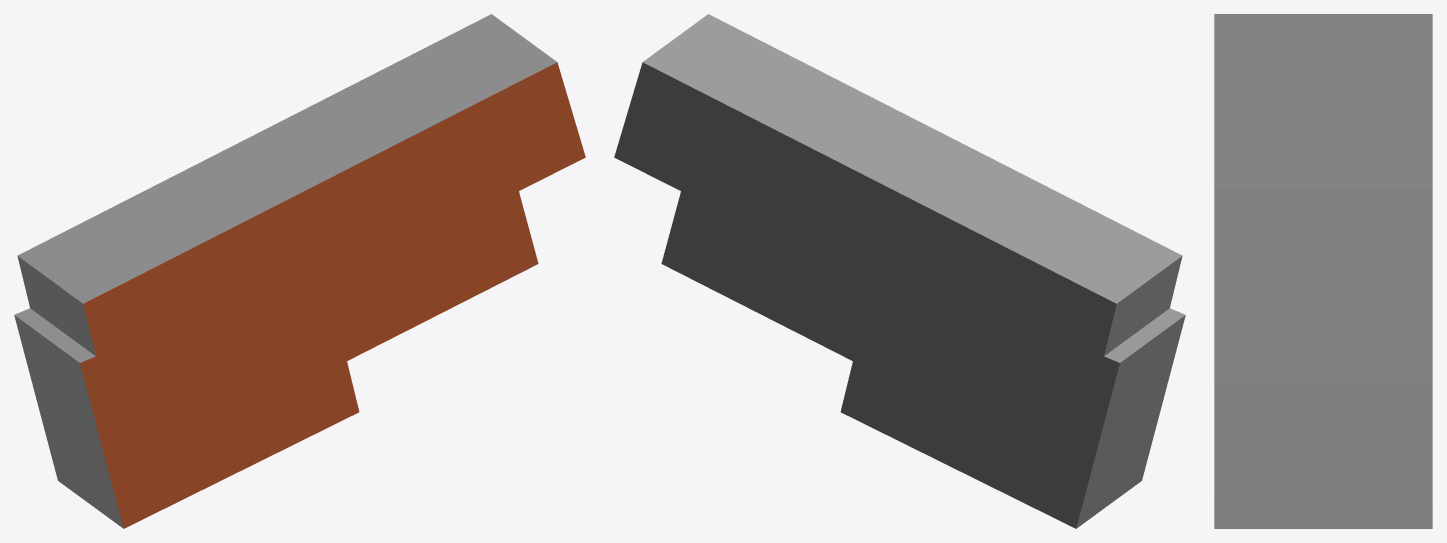
Rendered from construction_6452_assumed_A_Casa_h6m.obj.
3 renders of one model, left to right at view 1: azimuth 30°, elevation 25°; view 2: azimuth 150°, elevation 25°; view 3: azimuth 270°, elevation 25°, orthographic. The views are drawn at different scales.
Visible parts, largest first — view 1: construction_6452_assumed_A_Casa; view 2: construction_6452_assumed_A_Casa; view 3: construction_6452_assumed_A_Casa.
Boxes of the visible parts, <box> form: construction_6452_assumed_A_Casa: <box>14,14,585,528</box>; construction_6452_assumed_A_Casa: <box>614,14,1185,528</box>; construction_6452_assumed_A_Casa: <box>1214,14,1432,528</box>.
Bounding box in the file's own units: 26.61 × 18.14 × 6.
